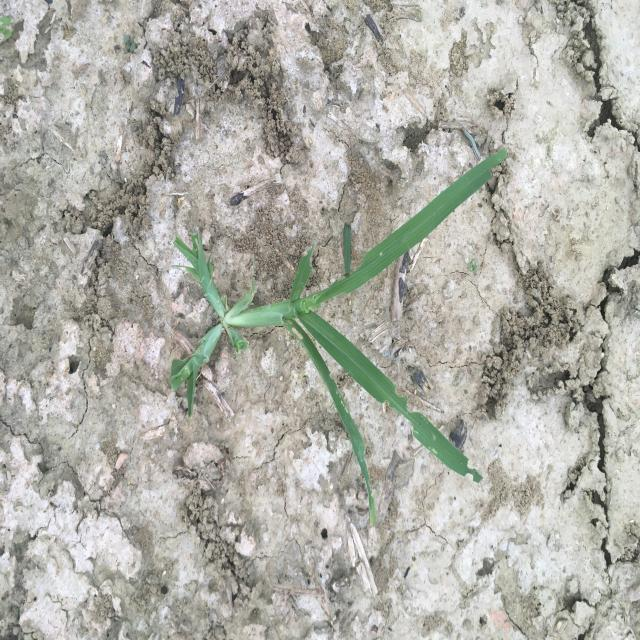Goosegrass: (169, 147, 510, 531)
